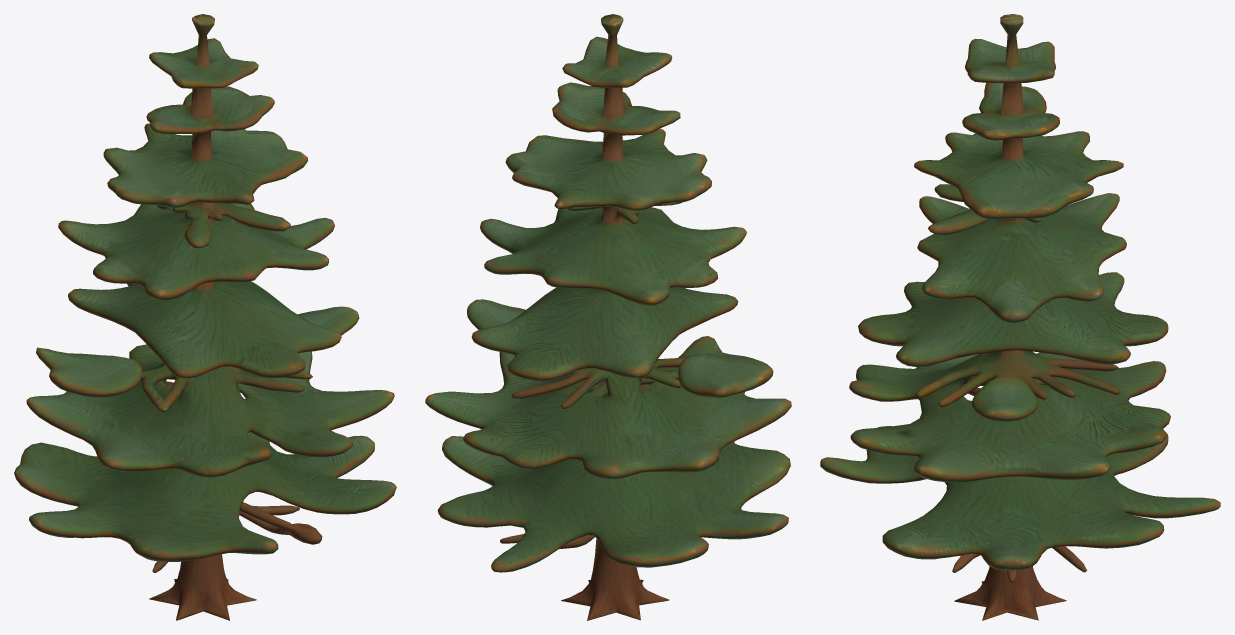
Rendered from a_pine_tree_0a0d4024_v4.glb.
3 renders of one model, left to right at view 1: azimuth 30°, elevation 25°; view 2: azimuth 150°, elevation 25°; view 3: azimuth 270°, elevation 25°, orthographic.
Visible parts, largest first — view 1: material; view 2: material; view 3: material.
Boxes of the visible parts, x1,y1,x2,y2 form: material: (14,14,396,620); material: (425,14,791,620); material: (820,14,1220,620).
Size of the model in its own units: 1.16 by 1.9 by 1.18.
Materials: 1 (1 with a texture image).
